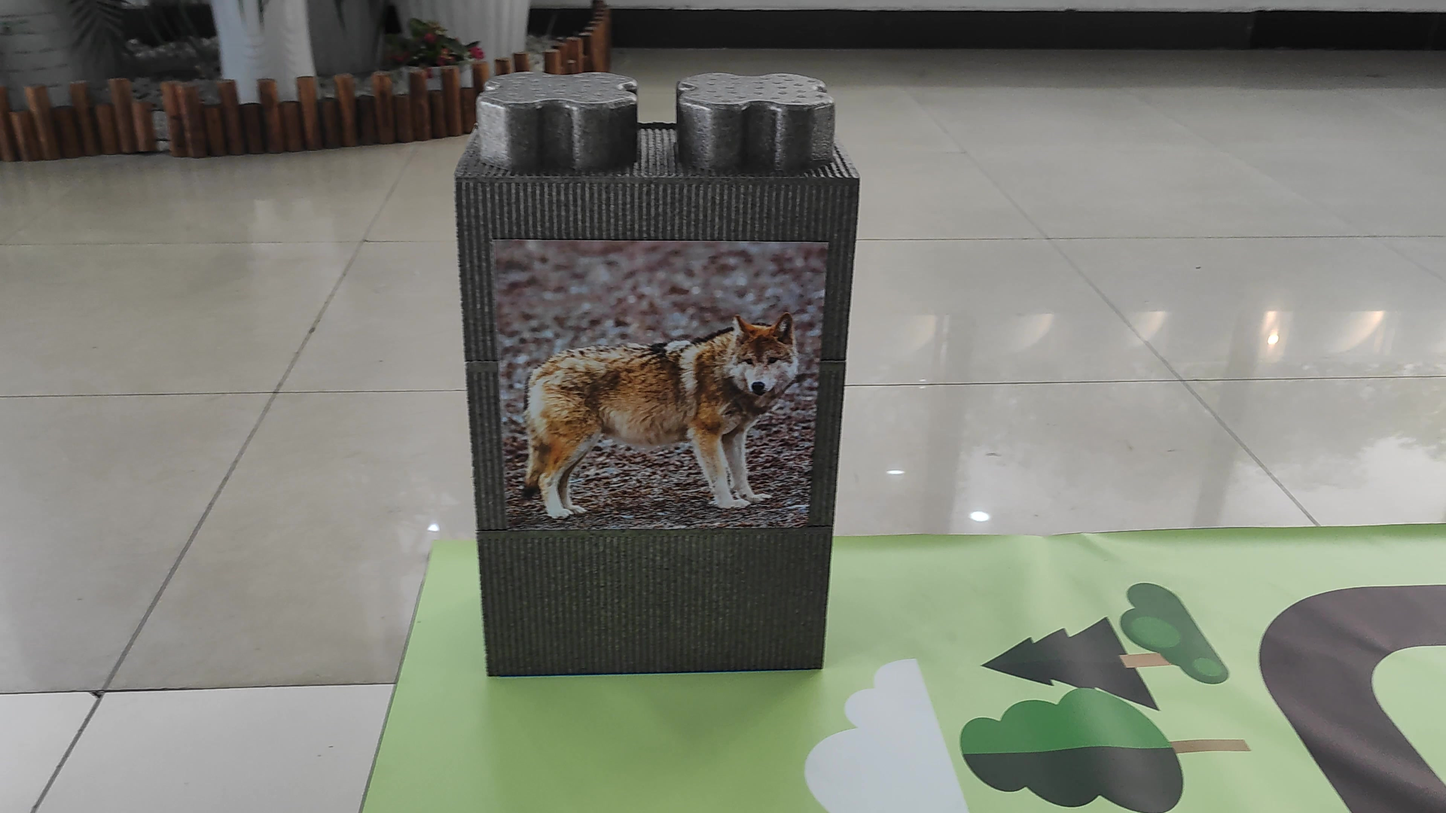wolf: (494, 305, 808, 521)
